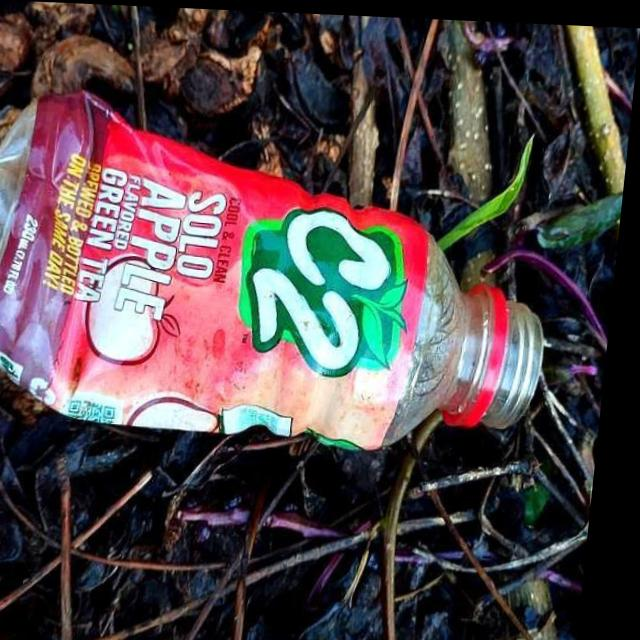Non-biodegradable: (1, 77, 576, 445)
